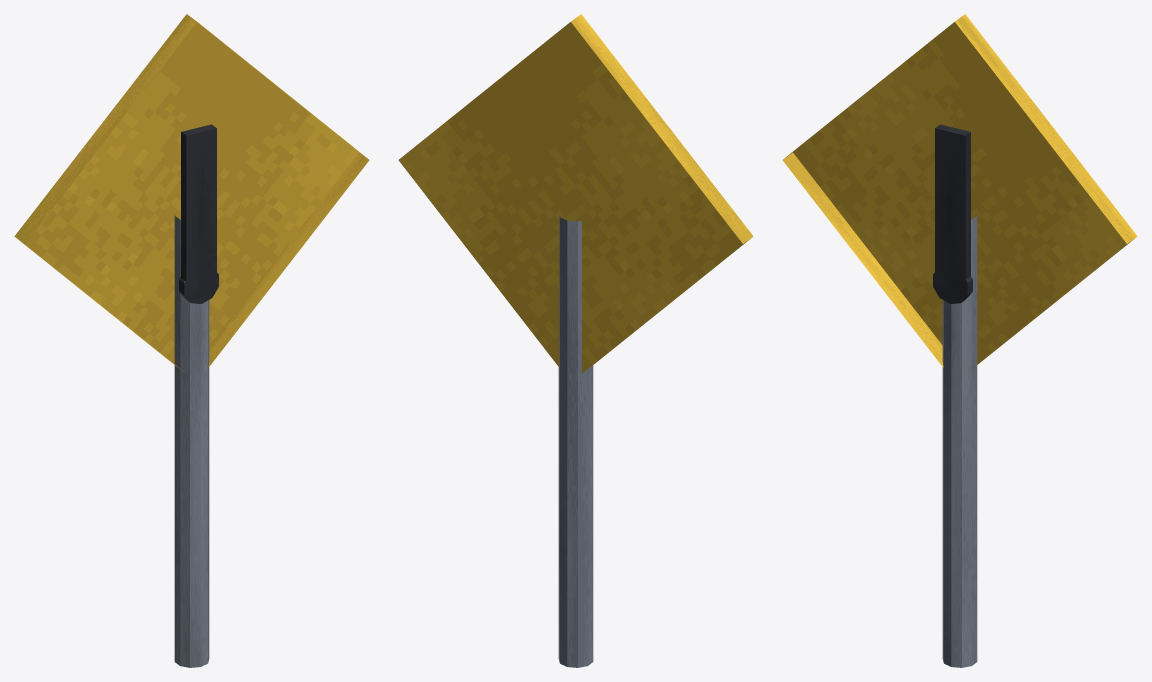
Rendered from prop_sign.glb.
3 views of the same model, side by side, from view 1: azimuth 30°, elevation 25°; view 2: azimuth 150°, elevation 25°; view 3: azimuth 330°, elevation 25° (orthographic).
Parts seen in each view (by area): view 1: prop_sign; view 2: prop_sign; view 3: prop_sign.
Part boxes in pixels (x1,y1,x2,y2): prop_sign: [14, 14, 369, 667]; prop_sign: [398, 14, 753, 667]; prop_sign: [782, 14, 1137, 667].
Size of the model in its own units: 1.13 by 2.02 by 0.105.
Materials: 1 (1 with a texture image).
